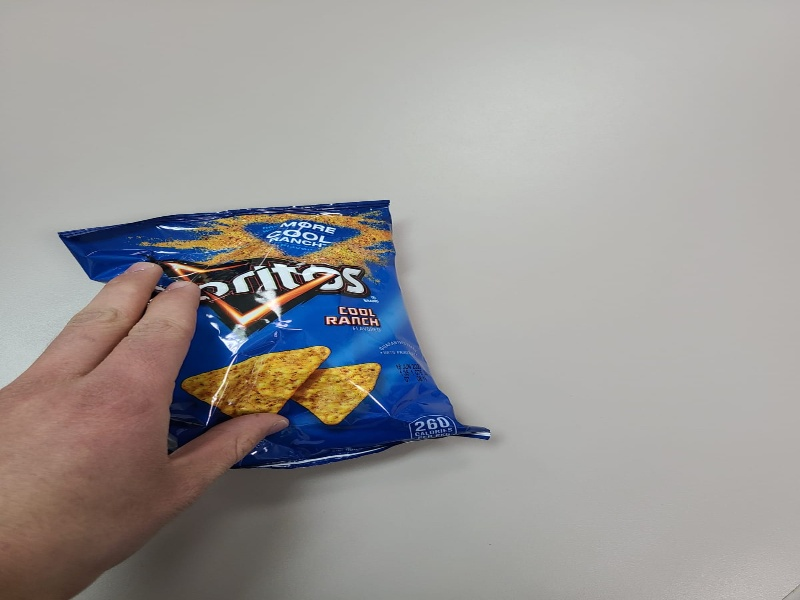doritos: (54, 198, 496, 471)
